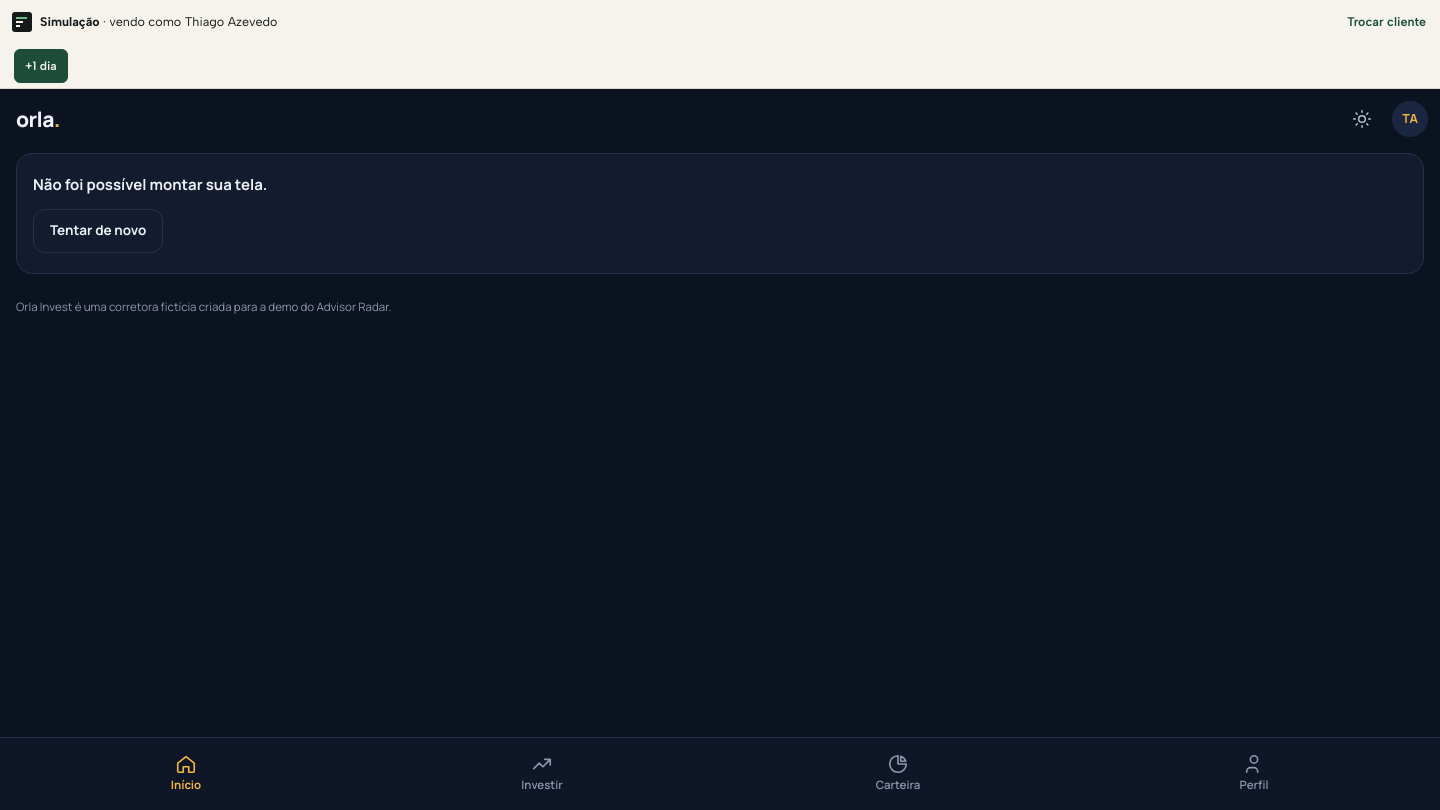
Test: client app home from the screen route › retries the screen request from the error state
This screenshot has width=1440, height=810.
Click the button "Tentar de novo": [98, 231] box [33,209,163,253]
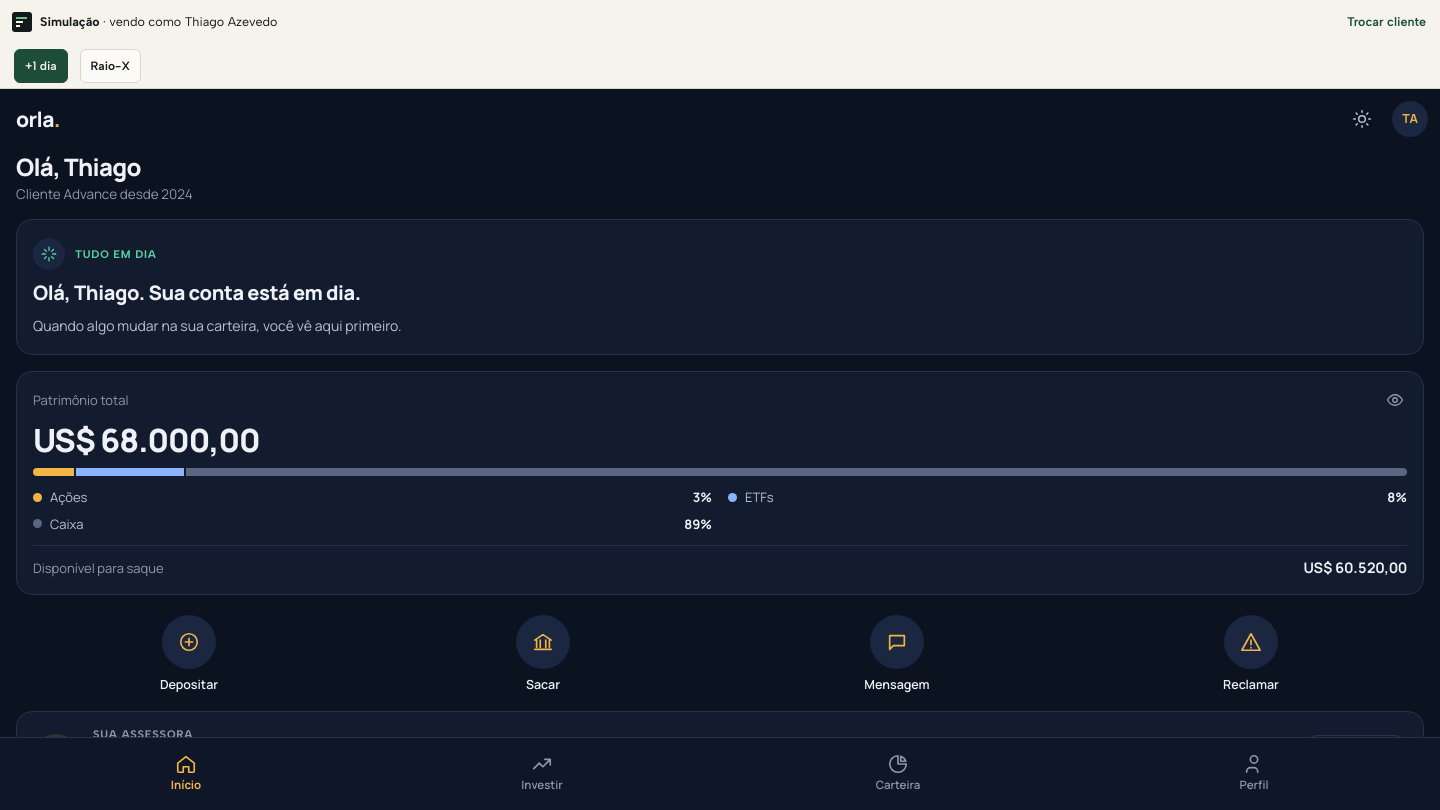
expect the heading "Olá, Thiago" is shown: met, box [16,150,141,183]
expect the message "Não foi possível montar sua tela." is gone: met
